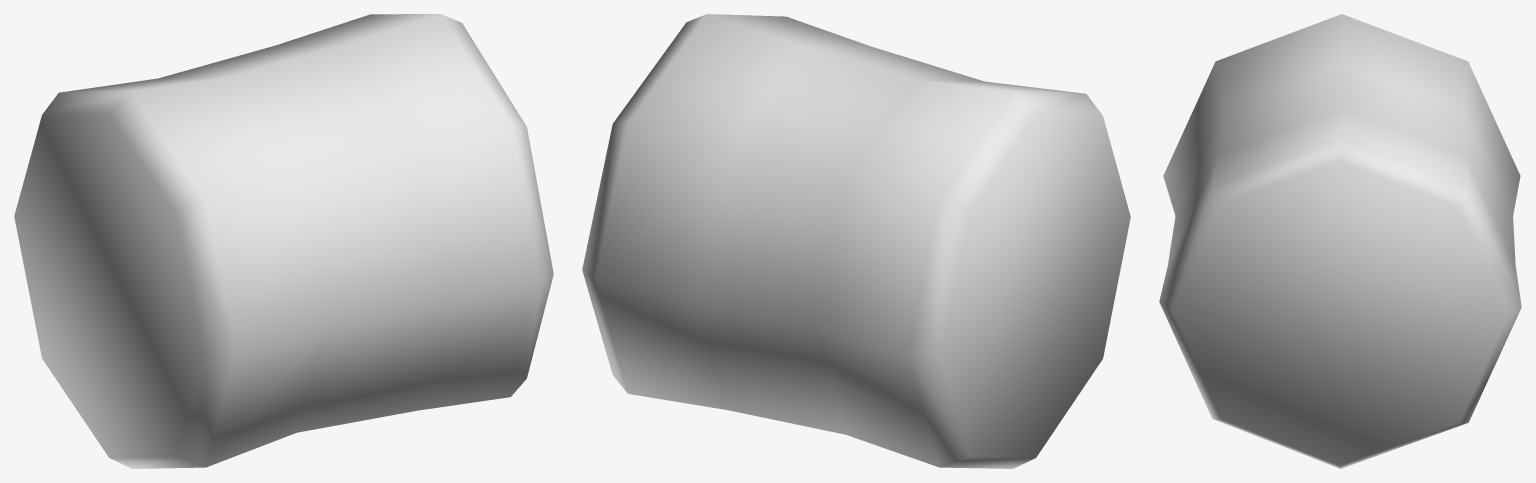
File: Marshmallow_01.fbx
3 renders of one model, left to right at view 1: azimuth 30°, elevation 25°; view 2: azimuth 150°, elevation 25°; view 3: azimuth 270°, elevation 25°, orthographic. The views are drawn at different scales.
Parts seen in each view (by area): view 1: Marshmallow_01; view 2: Marshmallow_01; view 3: Marshmallow_01.
Boxes of the visible parts, <box> form: Marshmallow_01: <box>14,14,553,468</box>; Marshmallow_01: <box>582,14,1130,468</box>; Marshmallow_01: <box>1159,14,1521,468</box>.
Size of the model in its own units: 0.0732 by 0.0748 by 0.0748.
